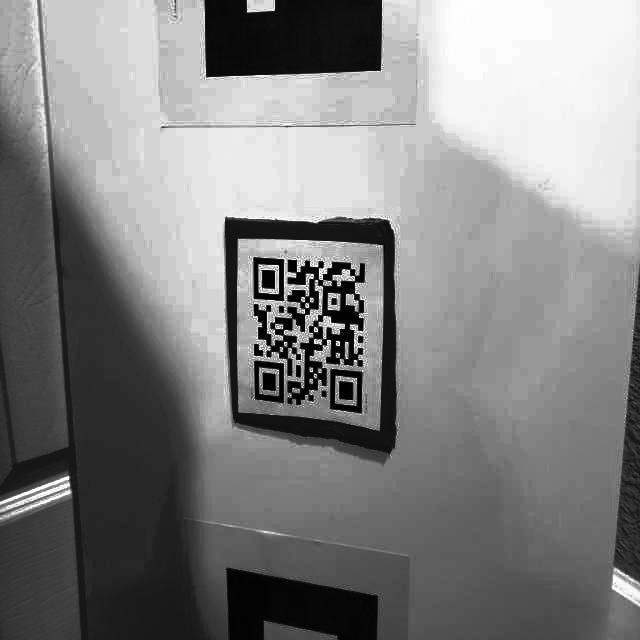qr_code: (247, 245, 371, 419)
